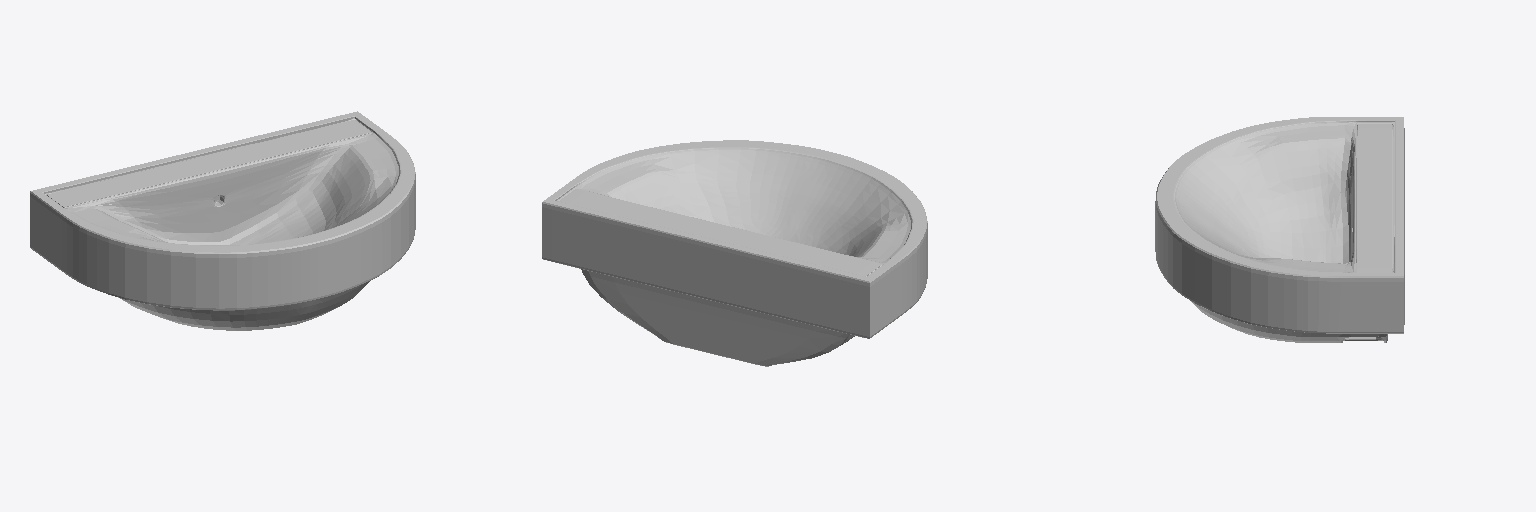
File: sink.obj
The picture shows the model from 3 angles: view 1: azimuth 30°, elevation 25°; view 2: azimuth 150°, elevation 25°; view 3: azimuth 270°, elevation 25°; orthographic projection.
Visible parts, largest first — view 1: sink; view 2: sink; view 3: sink.
Part boxes in pixels (x1,y1,x2,y2): sink: (30, 111, 415, 330); sink: (542, 140, 927, 366); sink: (1155, 117, 1404, 342).
Bounding box in the file's own units: 136 × 47.05 × 89.17.